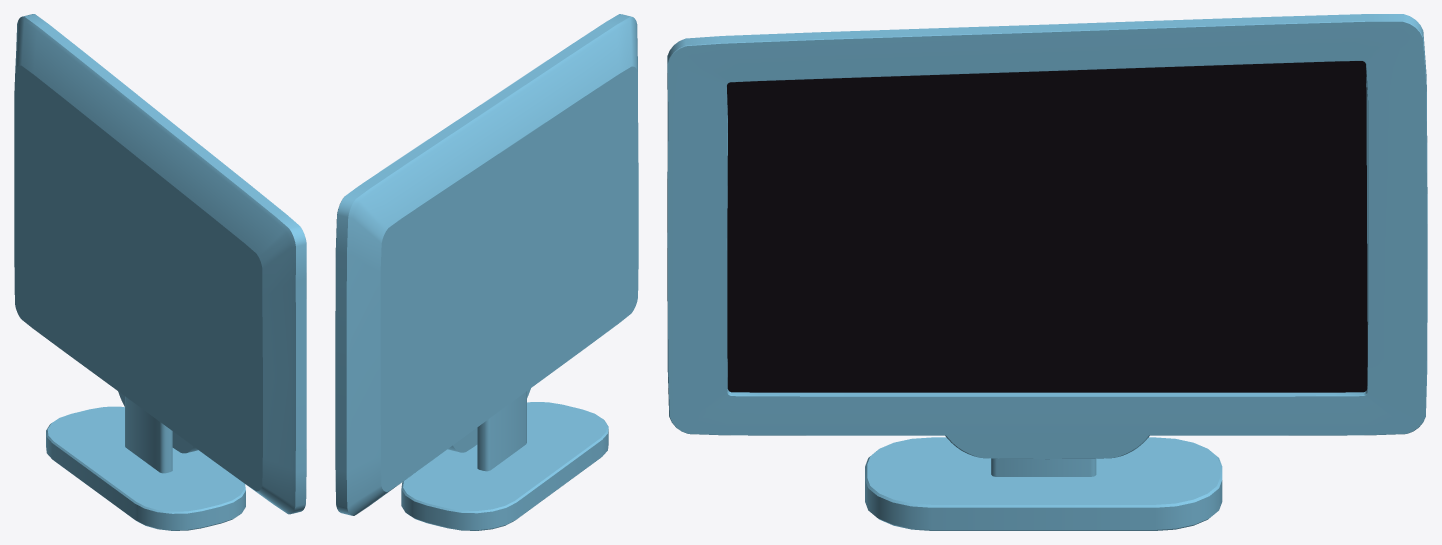
The picture shows the model from 3 angles, left to right: view 1: azimuth 30°, elevation 25°; view 2: azimuth 150°, elevation 25°; view 3: azimuth 270°, elevation 25°; orthographic projection. The views are drawn at different scales.
Visible parts, largest first — view 1: TV; view 2: TV; view 3: TV.
Boxes of the visible parts, x1,y1,x2,y2 form: TV: (14, 14, 306, 530); TV: (335, 14, 638, 530); TV: (667, 14, 1427, 530).
Size of the model in its own units: 0.2889 by 0.9544 by 1.34.
2 materials, 1 textured.
